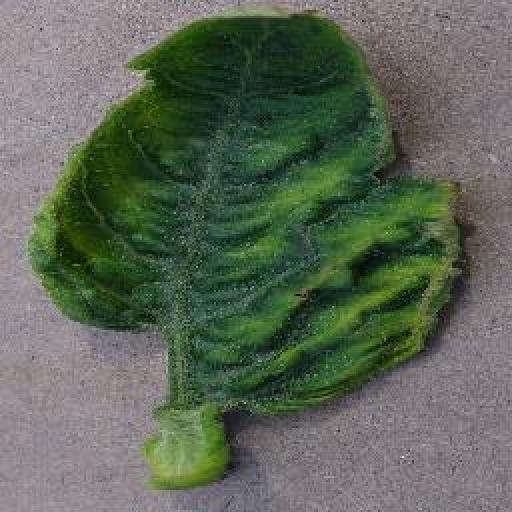disease_tomato: (26, 6, 466, 418)
